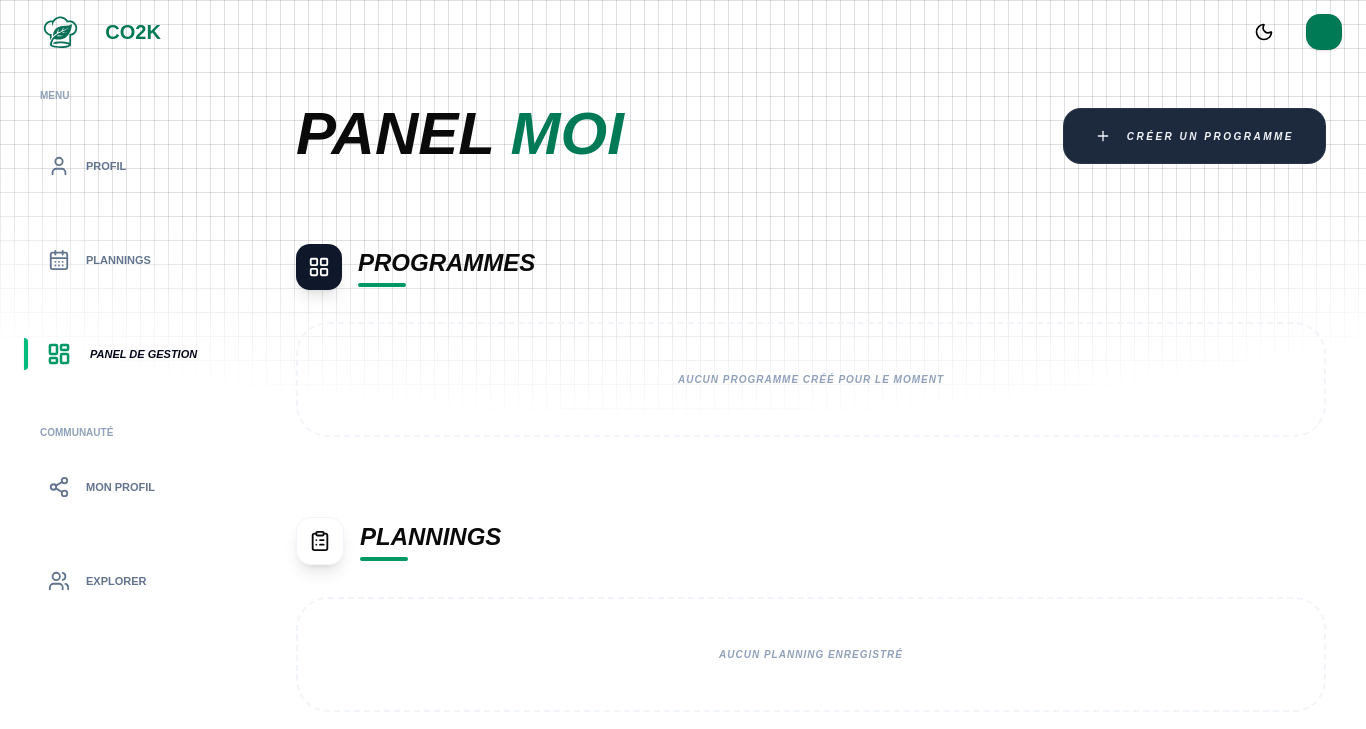
Test: Test Page Communauté › Permet de visiter le profil dun auteur et de sabonner
Click the button "Explorer".
click(128, 581)  # box [24,542,232,620]
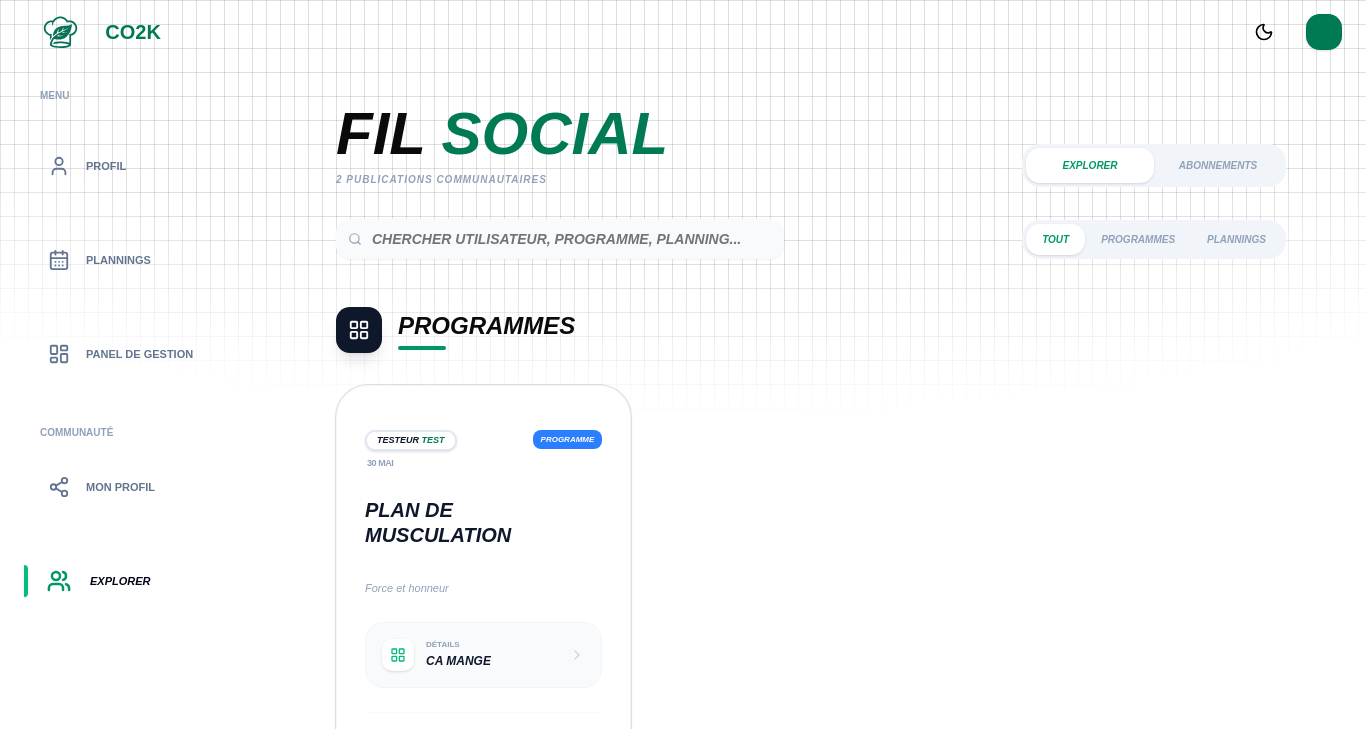
Click the button "testeur test".
click(411, 441)  # box [365,430,457,451]
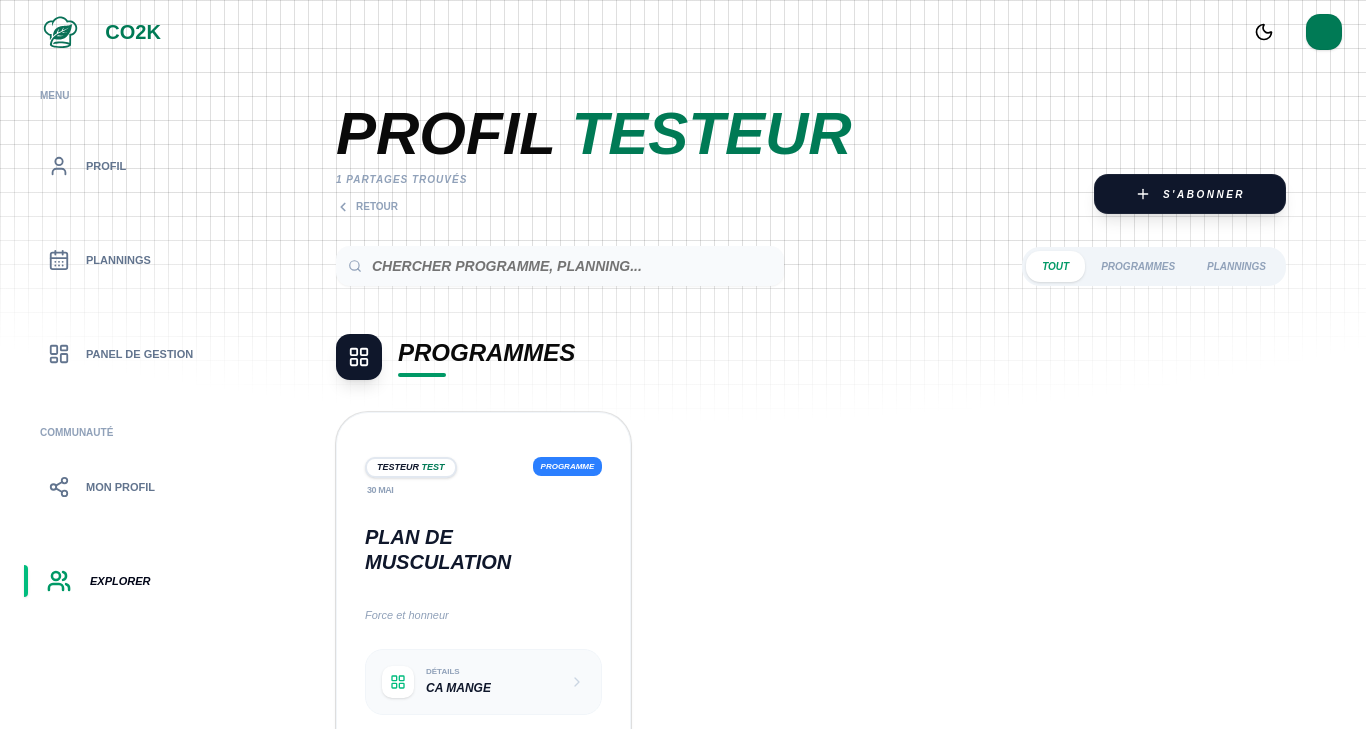
Check: the text "testeur" is shown, box [572,100,852,167]
Check: the button "S'abonner" is shown
Click the button "S'abonner".
click(1190, 194)  # box [1094,174,1286,214]
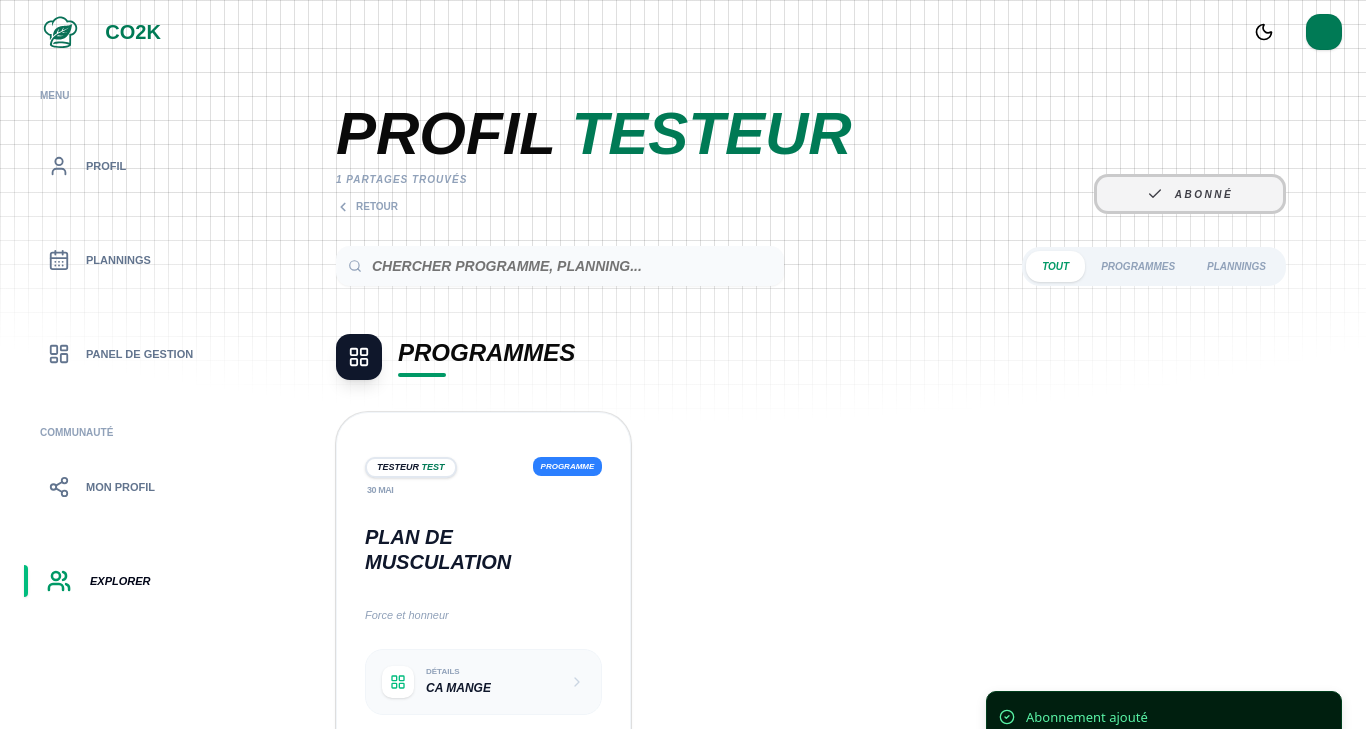
Check: the button "Abonné" is shown, box [1094,174,1286,214]
